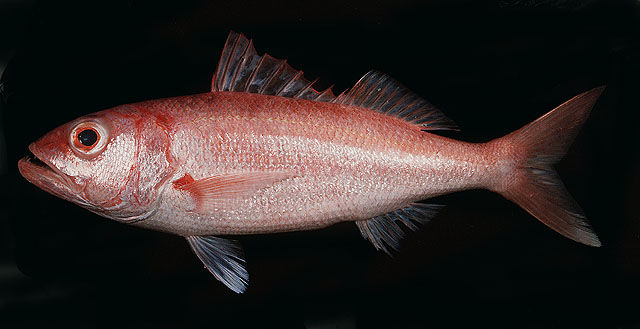fish: (17, 29, 604, 294)
